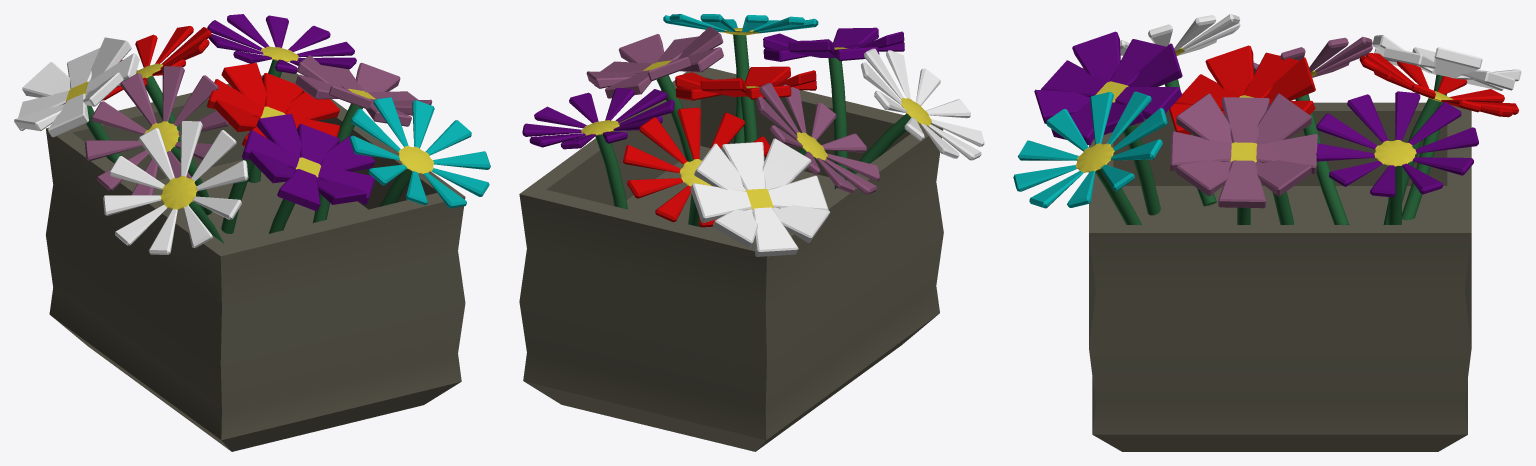
File: plant 2 flowers.fbx
3 renders of one model, left to right at view 1: azimuth 30°, elevation 25°; view 2: azimuth 150°, elevation 25°; view 3: azimuth 270°, elevation 25°, orthographic. The views are drawn at different scales.
Parts seen in each view (by area): view 1: pCube2; view 2: pCube2; view 3: pCube2.
Part boxes in pixels (box(x1,y1,x2,y2)): pCube2: box(14, 14, 490, 451); pCube2: box(519, 14, 984, 451); pCube2: box(1013, 14, 1521, 451).
Bounding box in the file's own units: 29.67 × 25.75 × 35.58.
